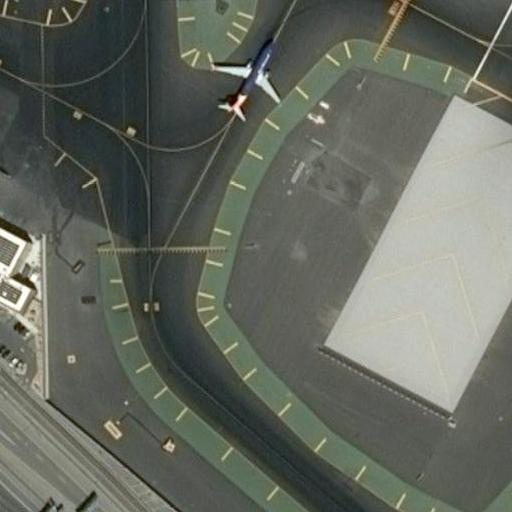Aircraft: (209, 33, 282, 122)
